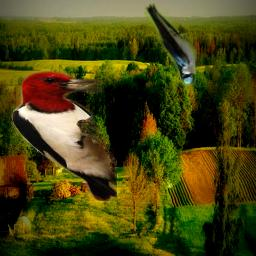Swallow: (144, 2, 197, 86)
Woodpecker: (11, 71, 117, 201)
